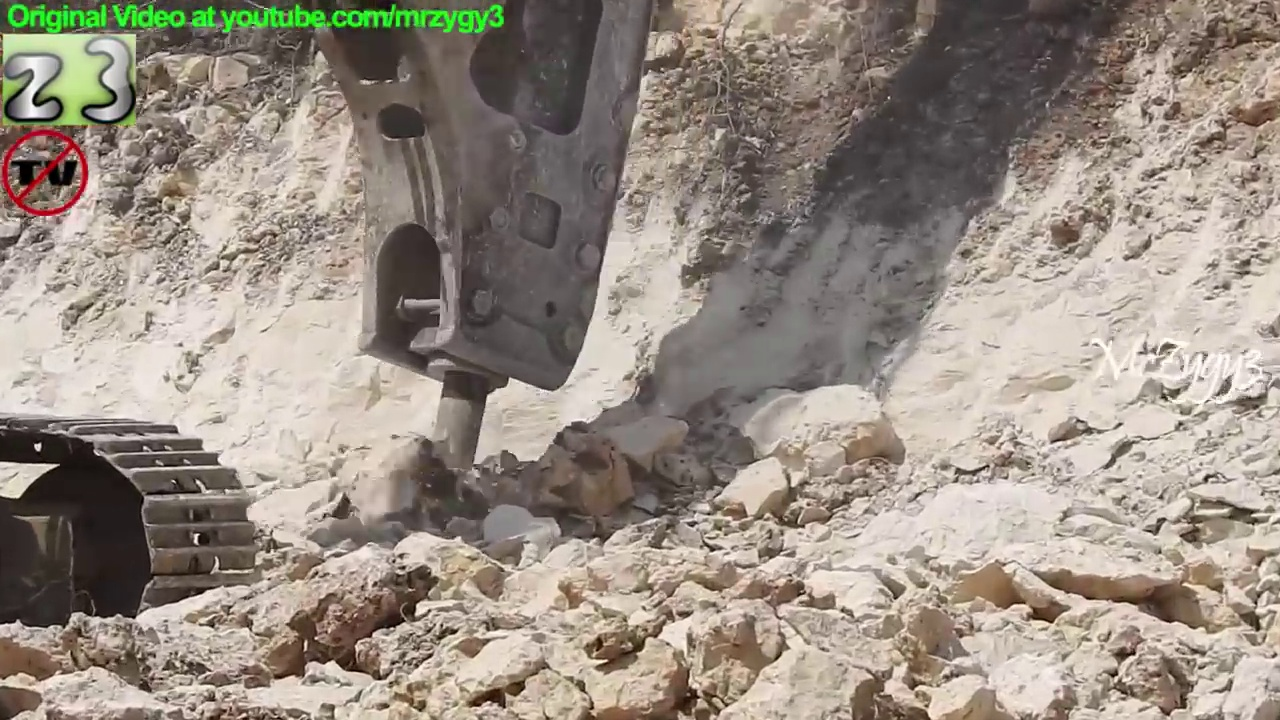excavator: (1, 1, 662, 648)
